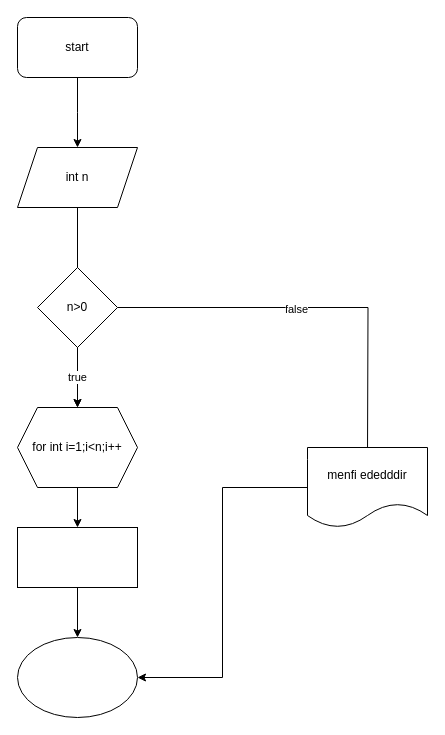
The diagram is 445 pixels wide and 735 high, and some of its shapes have lost their labels. The shapes that lost their labels are listed below. From the top down, each one's centre as x and y in pixels, then its label:
[77,557]: n*=i
[77,677]: end
